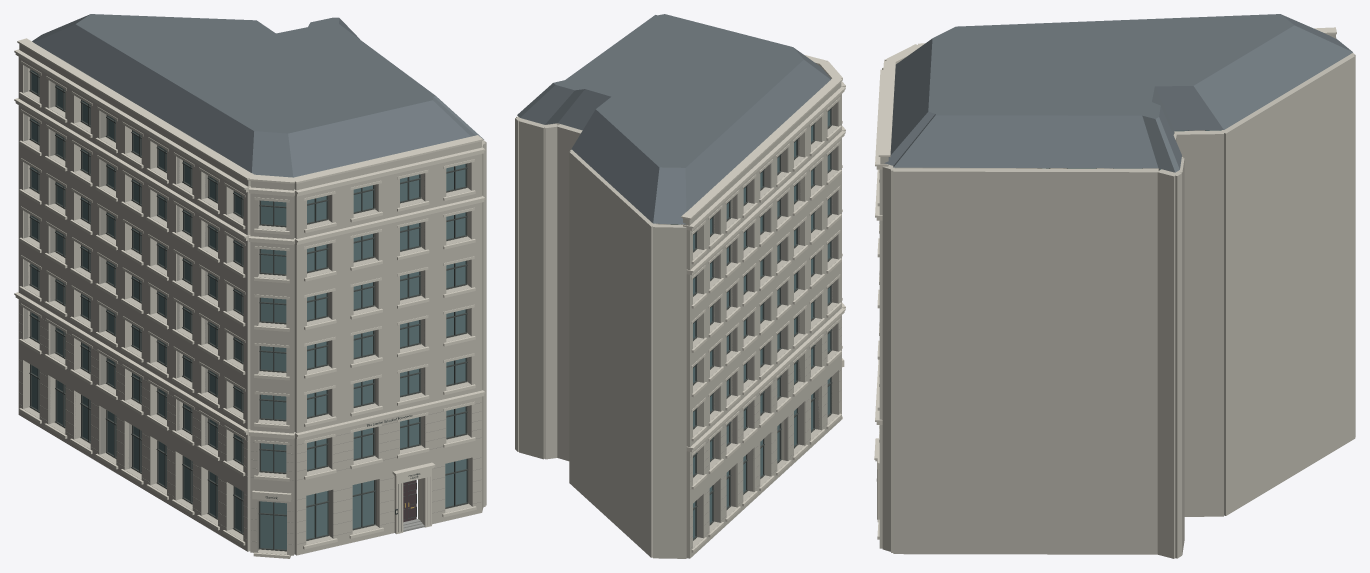
The model's file is col-exterior-faa7f16517ba.glb.
The picture shows the model from 3 angles, left to right: view 1: azimuth 30°, elevation 25°; view 2: azimuth 150°, elevation 25°; view 3: azimuth 270°, elevation 25°; orthographic projection. The views are drawn at different scales.
Visible parts, largest first — view 1: COL.001; view 2: COL.001; view 3: COL.001.
Boxes of the visible parts, box(x1,y1,x2,y2) form: COL.001: box(14, 14, 486, 558); COL.001: box(515, 14, 845, 558); COL.001: box(874, 14, 1355, 558).
Bounding box in the file's own units: 20.48 × 29.2 × 29.87.
